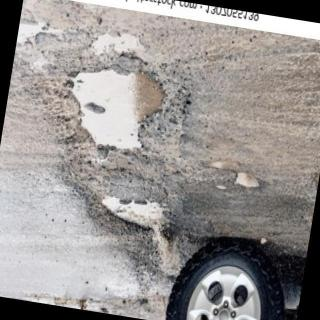pothole: (72, 70, 165, 150), (105, 199, 162, 230)
